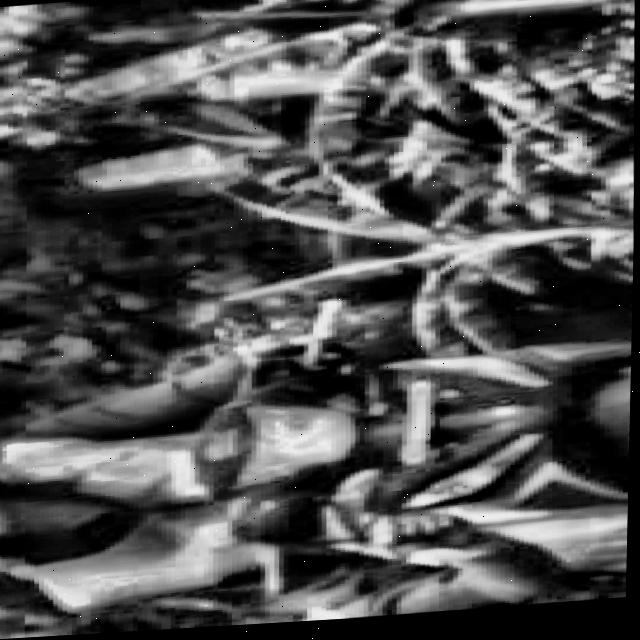Lori: (0, 224, 636, 640)
